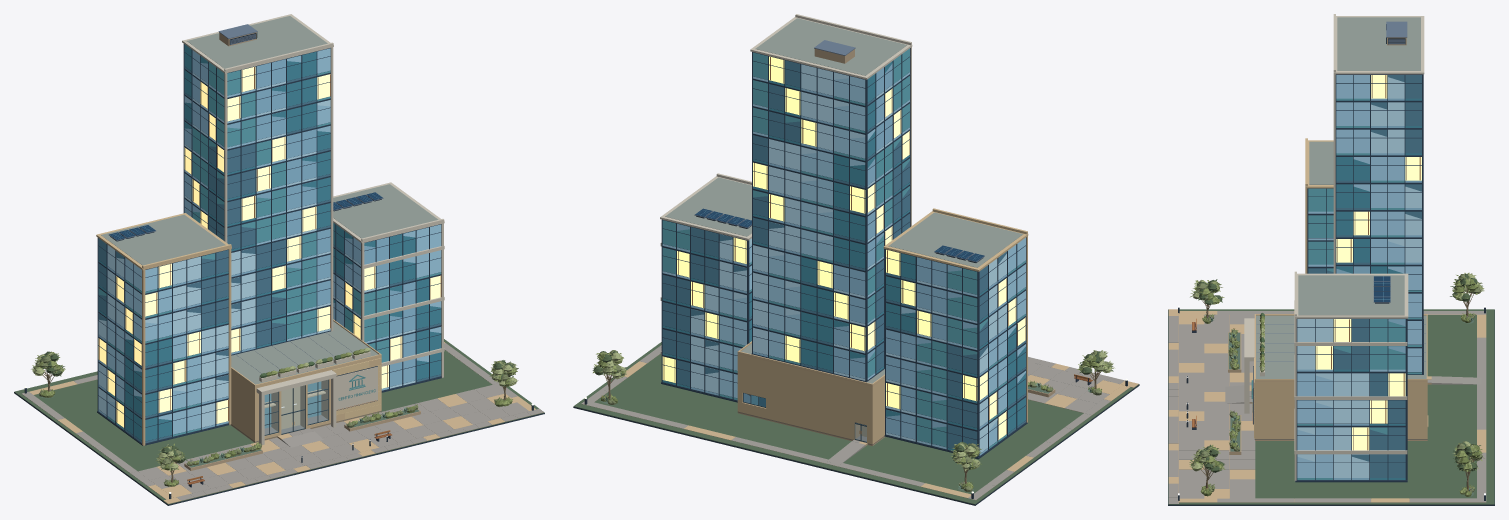
File: centro_financiero.fbx
The picture shows the model from 3 angles, left to right: view 1: azimuth 30°, elevation 25°; view 2: azimuth 150°, elevation 25°; view 3: azimuth 270°, elevation 25°; orthographic projection. The views are drawn at different scales.
Parts seen in each view (by area): view 1: Acristalamiento opaco, Marcos y lamas, Marquesinas, Senderos y explanadas, Islas de plantacion, Remates minerales, Muros, Cristales transparentes, Equipamiento de fachada, Piedra y bordillos, Senaletica, Setos y herbaceas (+3 smaller); view 2: Acristalamiento opaco, Marcos y lamas, Islas de plantacion, Marquesinas, Muros, Senderos y explanadas, Remates minerales, Equipamiento de fachada, Piedra y bordillos, Arbol 252, Arbol 251, Arbol 253; view 3: Acristalamiento opaco, Senderos y explanadas, Islas de plantacion, Marquesinas, Marcos y lamas, Muros, Remates minerales, Piedra y bordillos, Equipamiento de fachada, Setos y herbaceas, Arbol 252, Arbol 254 (+2 smaller).
Part boxes in pixels (x1=…): Acristalamiento opaco: x1=98, y1=44, x2=441, y2=443; Marcos y lamas: x1=97, y1=32, x2=441, y2=443; Marquesinas: x1=96, y1=14, x2=444, y2=395; Senderos y explanadas: x1=21, y1=342, x2=543, y2=503; Islas de plantacion: x1=14, y1=339, x2=544, y2=504; Remates minerales: x1=97, y1=42, x2=444, y2=445; Muros: x1=99, y1=48, x2=440, y2=441; Cristales transparentes: x1=265, y1=380, x2=328, y2=434; Equipamiento de fachada: x1=109, y1=24, x2=383, y2=408; Piedra y bordillos: x1=14, y1=392, x2=544, y2=505; Senaletica: x1=336, y1=366, x2=377, y2=410; Setos y herbaceas: x1=39, y1=387, x2=512, y2=486; Acristalamiento opaco: x1=662, y1=48, x2=1025, y2=455; Marcos y lamas: x1=661, y1=48, x2=1026, y2=457; Islas de plantacion: x1=573, y1=342, x2=1139, y2=504; Marquesinas: x1=660, y1=17, x2=1028, y2=386; Muros: x1=663, y1=52, x2=1025, y2=450; Senderos y explanadas: x1=581, y1=345, x2=1138, y2=500; Remates minerales: x1=660, y1=14, x2=1027, y2=459; Equipamiento de fachada: x1=694, y1=40, x2=984, y2=262; Piedra y bordillos: x1=573, y1=384, x2=1139, y2=505; Arbol 252: x1=592, y1=350, x2=628, y2=398; Arbol 251: x1=951, y1=441, x2=981, y2=483; Arbol 253: x1=1077, y1=350, x2=1114, y2=388; Acristalamiento opaco: x1=1297, y1=75, x2=1421, y2=479; Senderos y explanadas: x1=1168, y1=309, x2=1486, y2=503; Islas de plantacion: x1=1168, y1=309, x2=1494, y2=504; Marquesinas: x1=1244, y1=16, x2=1427, y2=381; Marcos y lamas: x1=1296, y1=24, x2=1423, y2=480; Muros: x1=1254, y1=74, x2=1427, y2=438; Remates minerales: x1=1244, y1=14, x2=1428, y2=482; Piedra y bordillos: x1=1168, y1=310, x2=1494, y2=505; Equipamiento de fachada: x1=1259, y1=21, x2=1407, y2=372; Setos y herbaceas: x1=1200, y1=313, x2=1475, y2=496; Arbol 252: x1=1452, y1=441, x2=1484, y2=490; Arbol 254: x1=1189, y1=444, x2=1225, y2=488.
Bounding box in the file's own units: 48 × 42.9 × 34.
